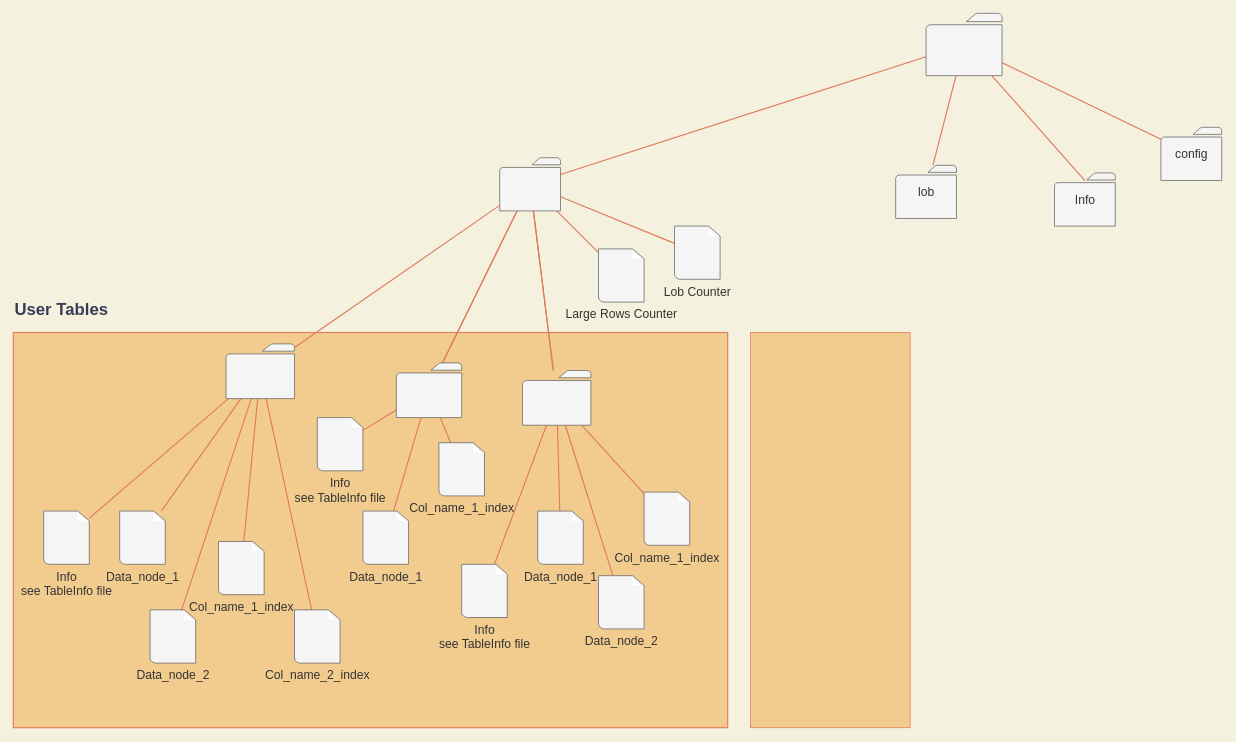
Image size: 1236x742. Some labels were removed from this diagram. The centre of each missing label's shape, as x and y in pixels:
$DB_Home: point 963,44
System Tables: point 830,530
Table_1: point 259,371
Table_2: point 429,390
Table_3: point 556,397
tables: point 529,184
